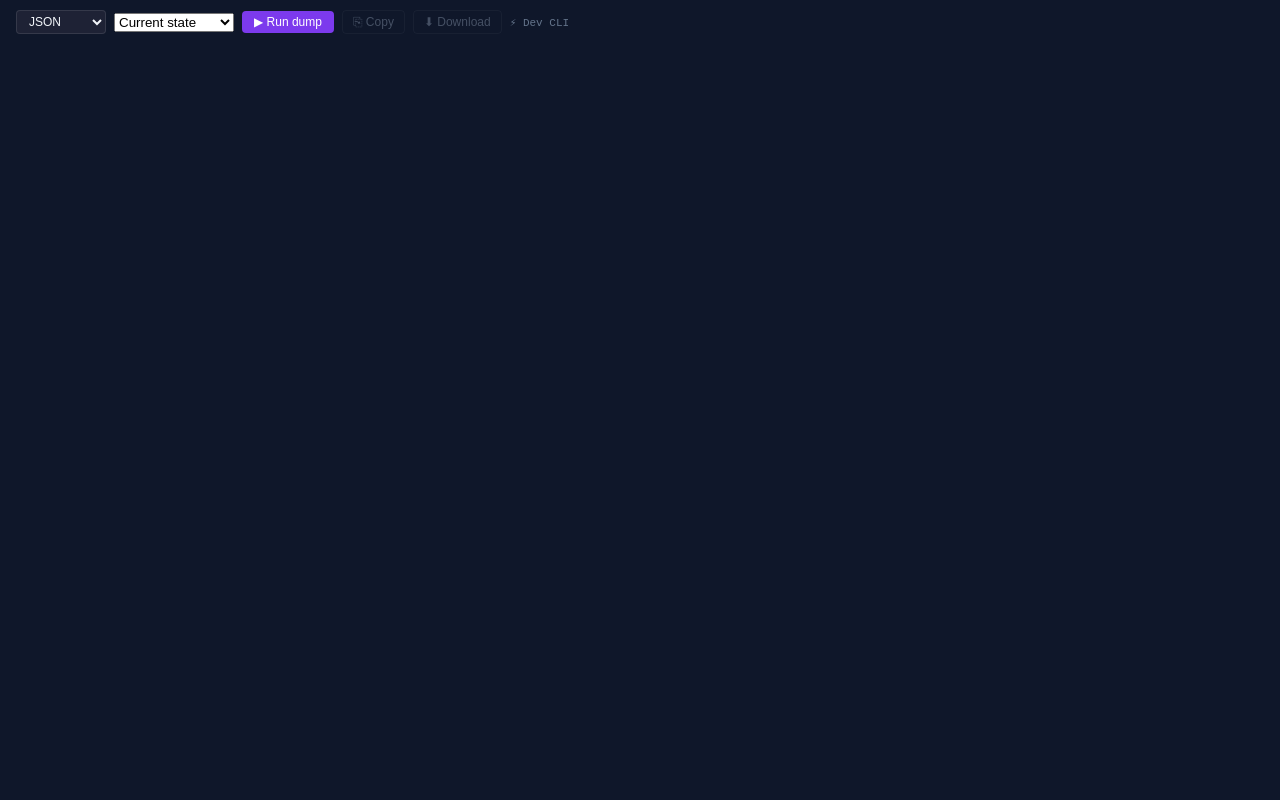
Test: SchemaTab - Dump Panel › Copy Button › should be enabled after dump is run
Click the button "▶ Run dump" at [288, 22], box [242,11,334,33]
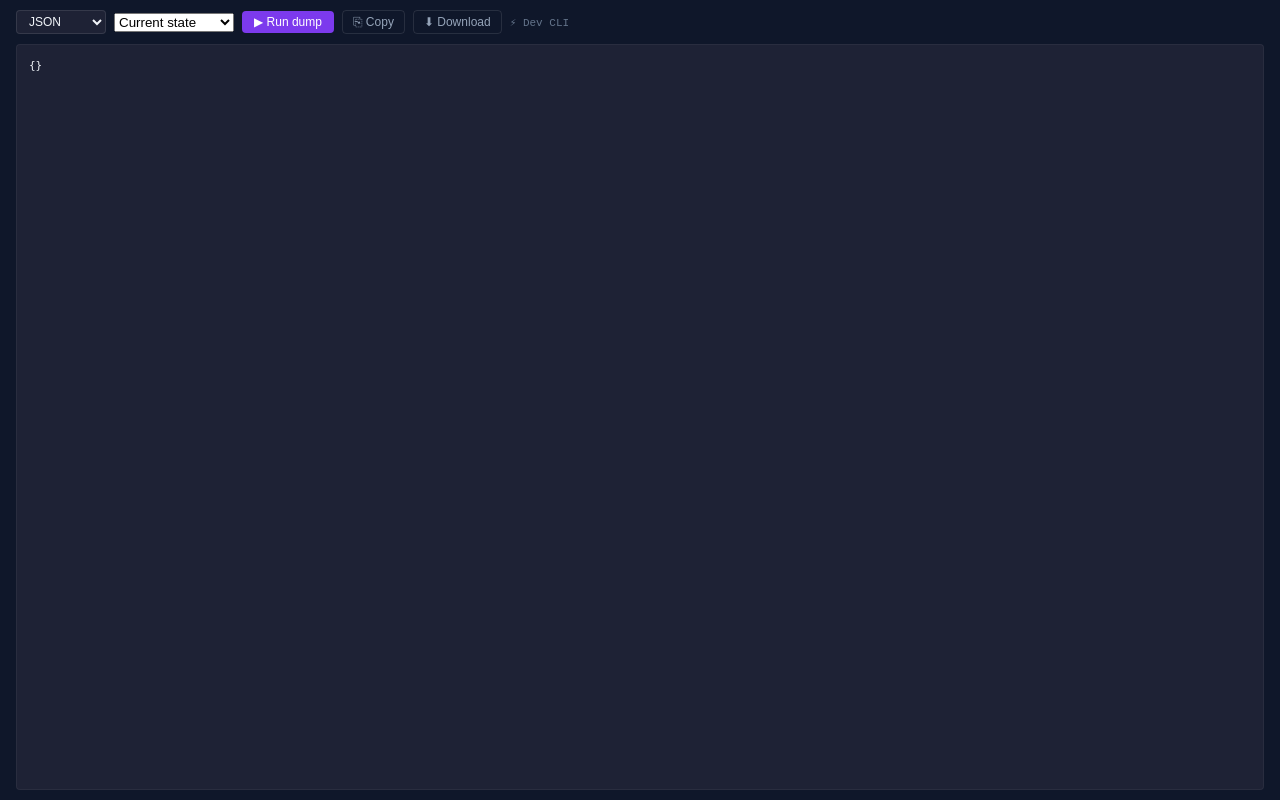
Check: the button "⎘ Copy" is enabled, box [342,10,405,34]
